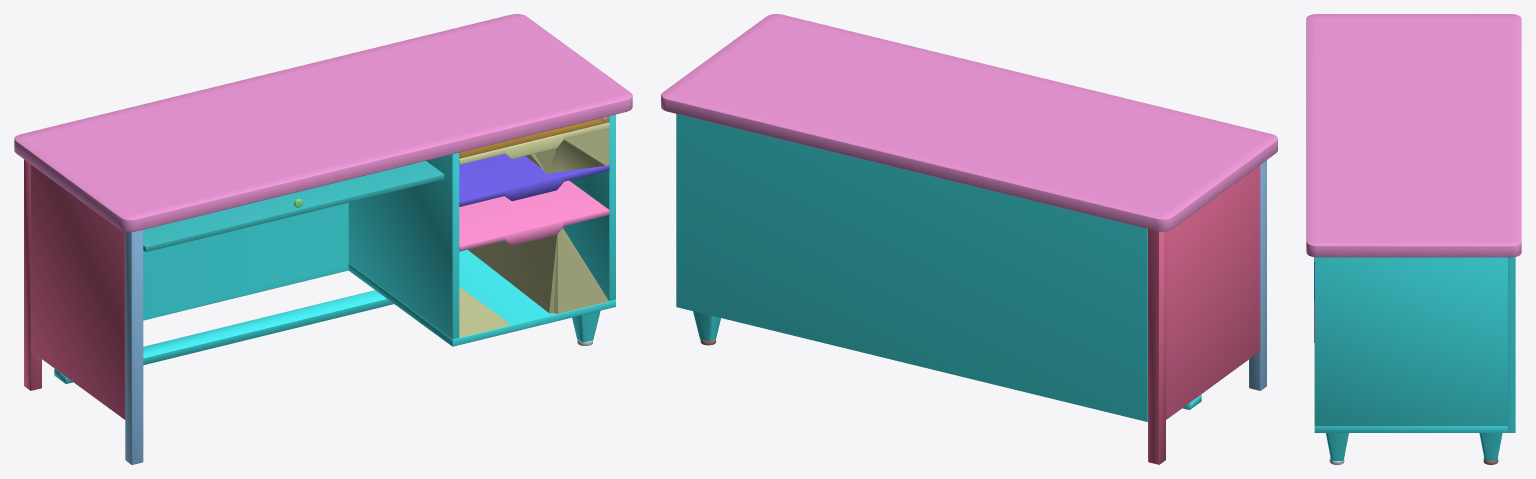
3 views of the same model, side by side, from view 1: azimuth 30°, elevation 25°; view 2: azimuth 150°, elevation 25°; view 3: azimuth 270°, elevation 25° (orthographic). The views are drawn at different scales.
Parts seen in each view (by area): view 1: pCylinder1_lambert1_0.030, split_parent_7, split_parent_5, split_parent_4, pCylinder1_lambert1_0.102, pCylinder1_lambert1_0.082, pCylinder1_lambert1_0.172, pCylinder1_lambert1_0.178, pCylinder1_lambert1_0.114; view 2: split_parent_7, pCylinder1_lambert1_0.030, split_parent_5, pCylinder1_lambert1_0.172; view 3: pCylinder1_lambert1_0.030, split_parent_7.
Part boxes in pixels (x1,y1,x2,y2): pCylinder1_lambert1_0.030: (14, 14, 632, 231); split_parent_7: (54, 114, 615, 383); split_parent_5: (24, 159, 125, 419); split_parent_4: (459, 122, 609, 337); pCylinder1_lambert1_0.102: (143, 161, 444, 251); pCylinder1_lambert1_0.082: (459, 180, 609, 251); pCylinder1_lambert1_0.172: (125, 230, 143, 464); pCylinder1_lambert1_0.178: (459, 154, 609, 206); pCylinder1_lambert1_0.114: (459, 116, 608, 158); split_parent_7: (676, 114, 1201, 421); pCylinder1_lambert1_0.030: (661, 14, 1277, 231); split_parent_5: (1148, 165, 1260, 464); pCylinder1_lambert1_0.172: (1249, 160, 1266, 390); pCylinder1_lambert1_0.030: (1306, 14, 1521, 257); split_parent_7: (1314, 257, 1515, 460).
Size of the model in its own units: 1 by 0.4674 by 0.3929.
